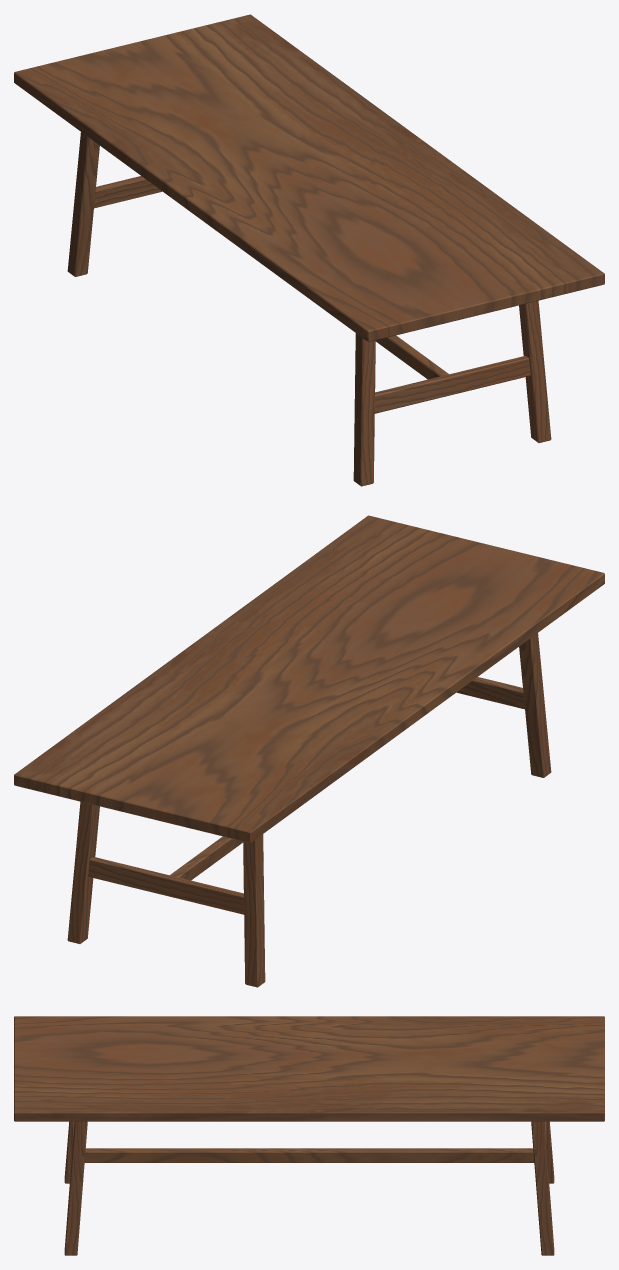
The model's file is Table2.obj.
The picture shows the model from 3 angles, top to bottom: view 1: azimuth 30°, elevation 25°; view 2: azimuth 150°, elevation 25°; view 3: azimuth 270°, elevation 25°; orthographic projection. The views are drawn at different scales.
Parts seen in each view (by area): view 1: Cube.033; view 2: Cube.033; view 3: Cube.033.
Boxes of the visible parts, box(x1,y1,x2,y2) form: Cube.033: box(14, 14, 604, 486); Cube.033: box(14, 515, 604, 987); Cube.033: box(14, 1016, 604, 1255).
Bounding box in the file's own units: 1.04 × 0.7667 × 2.68.
